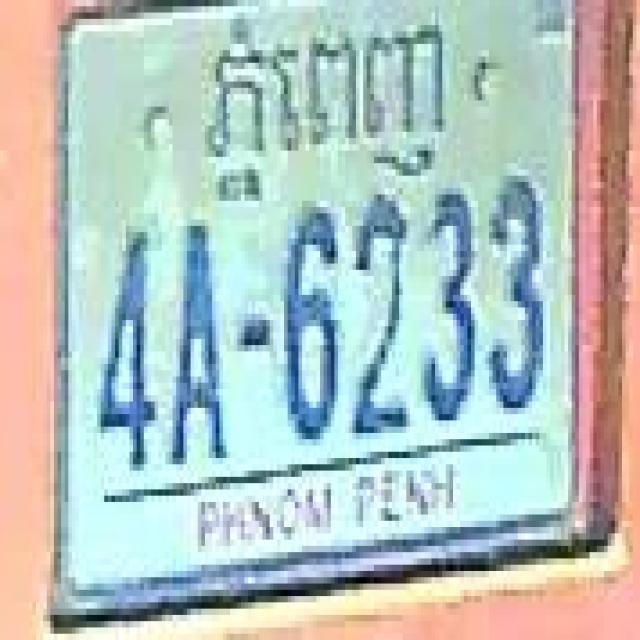Phnom_Penh: (209, 12, 442, 196)
